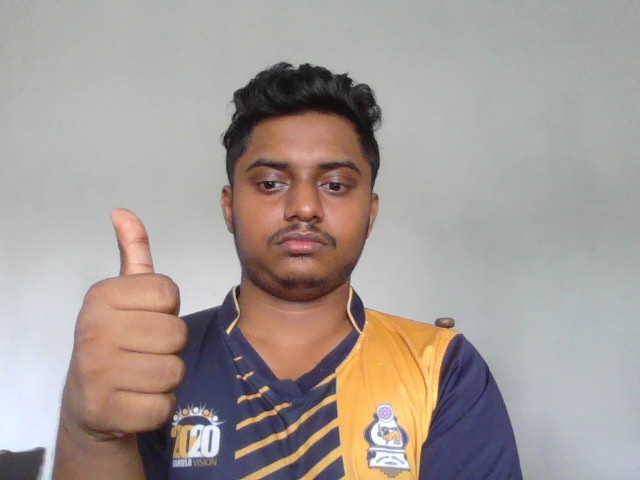Agree: (60, 204, 191, 440)
